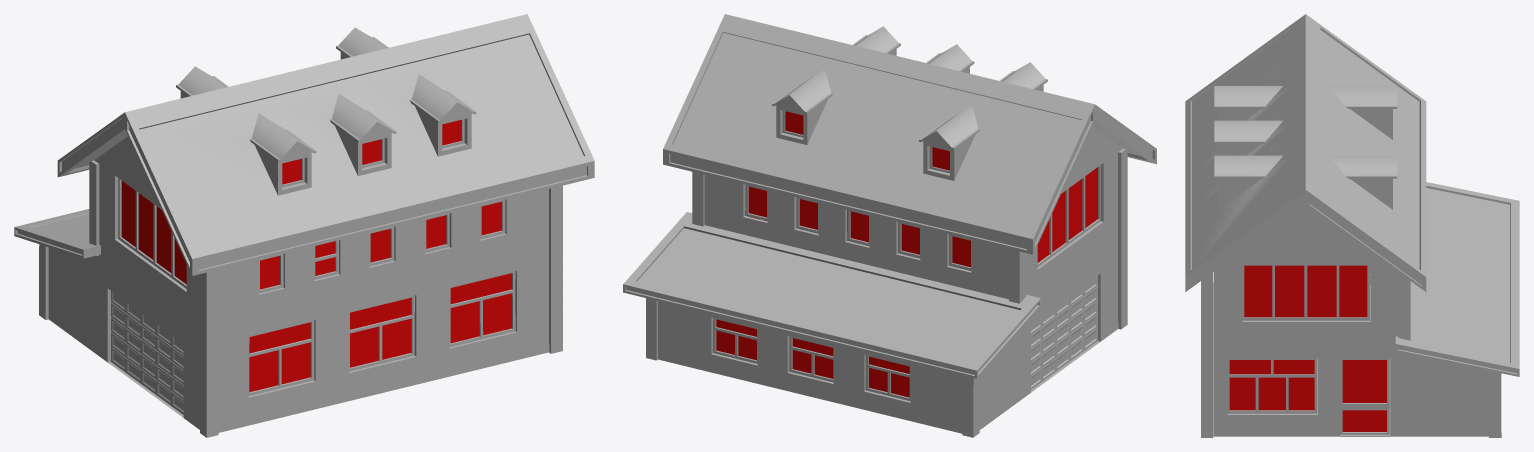
File: House_1_Low.fbx
The picture shows the model from 3 angles, left to right: view 1: azimuth 30°, elevation 25°; view 2: azimuth 150°, elevation 25°; view 3: azimuth 270°, elevation 25°; orthographic projection. The views are drawn at different scales.
Visible parts, largest first — view 1: House_1_Low; view 2: House_1_Low; view 3: House_1_Low.
Boxes of the visible parts, x1,y1,x2,y2 form: House_1_Low: [14, 14, 594, 437]; House_1_Low: [623, 14, 1156, 437]; House_1_Low: [1185, 14, 1519, 437].
Size of the model in its own units: 2300 by 1575 by 1848.
